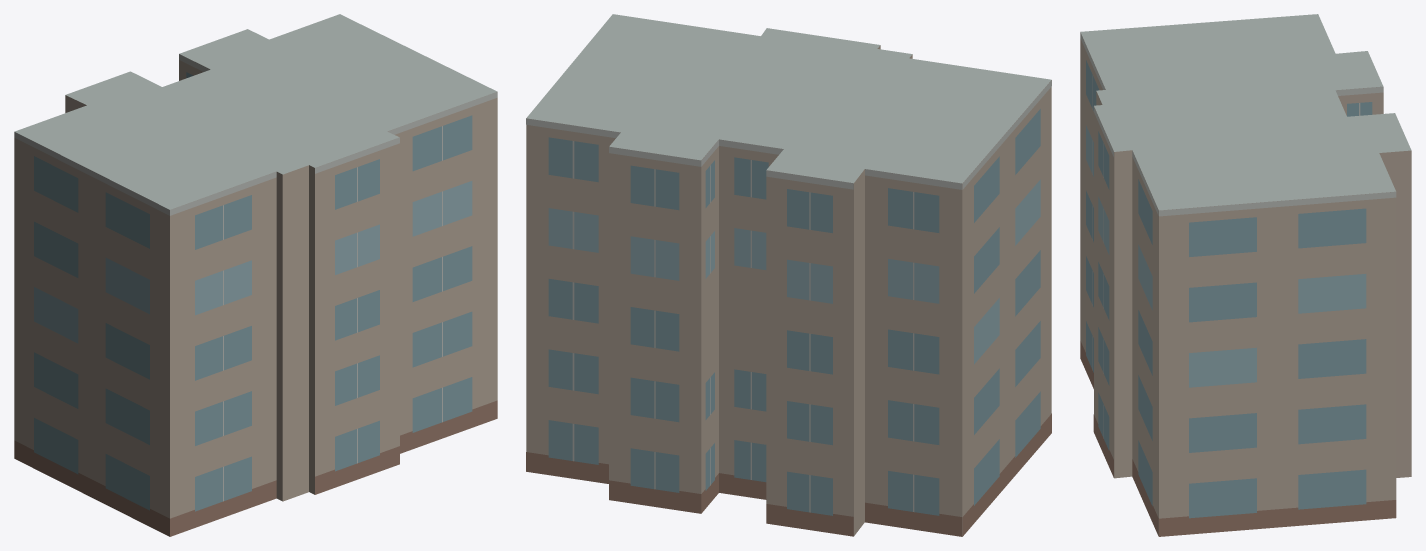
Rendered from survey-upis-32950615.glb.
3 renders of one model, left to right at view 1: azimuth 30°, elevation 25°; view 2: azimuth 150°, elevation 25°; view 3: azimuth 270°, elevation 25°, orthographic. The views are drawn at different scales.
Visible parts, largest first — view 1: survey-upis-32950615.tmp; view 2: survey-upis-32950615.tmp; view 3: survey-upis-32950615.tmp.
Part boxes in pixels (x1,y1,x2,y2): survey-upis-32950615.tmp: (14, 14, 497, 536); survey-upis-32950615.tmp: (526, 14, 1051, 536); survey-upis-32950615.tmp: (1080, 14, 1411, 536).
Size of the model in its own units: 17.18 by 13.3 by 12.25.
